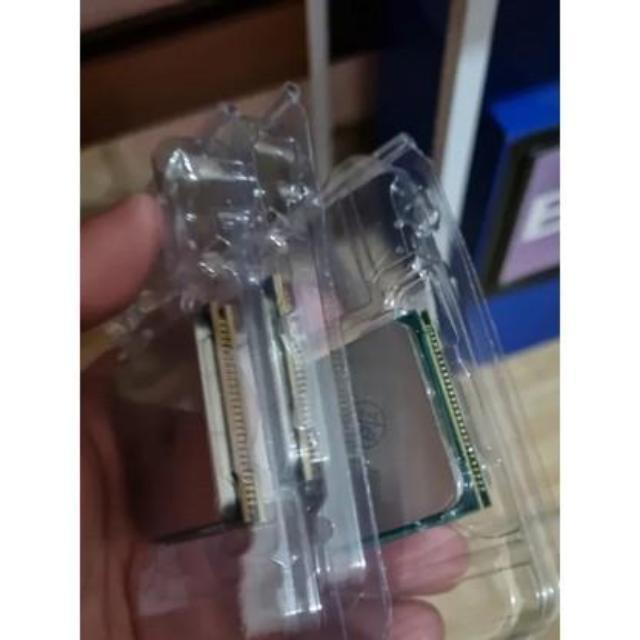CPU: (95, 298, 254, 550), (326, 316, 491, 550)
